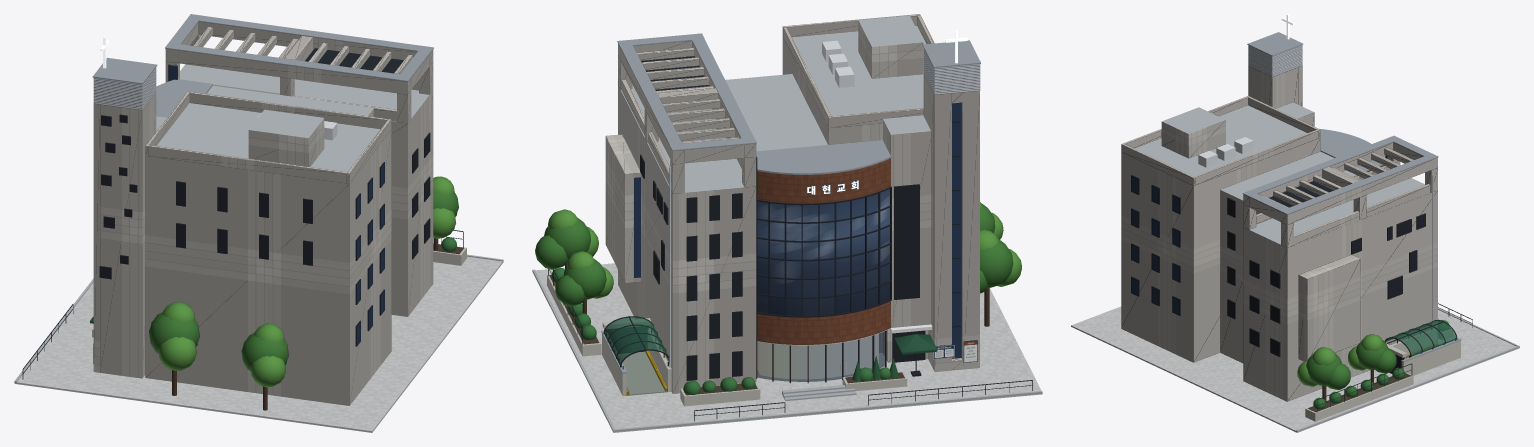
File: place_대현교회.glb
3 views of the same model, side by side, from view 1: azimuth 30°, elevation 25°; view 2: azimuth 150°, elevation 25°; view 3: azimuth 270°, elevation 25° (orthographic). The views are drawn at different scales.
Visible parts, largest first — view 1: SW_MainRearWing_5F, Forecourt_GraniteSidewalkSlab, Tower_MainShaft_Rear, NE_5F_GraniteBody, Merged_NE_PergolaFrame, Merged_Rear_Parapet, Merged_NE_PergolaCoping, Merged_Env_TreeLeavesBright, SW_Roof_StairPenthouse, Merged_Env_TreeLeaves, Merged_Tower_FrontPiers, Merged_SW_WinFrames (+12 smaller); view 2: NE_5F_GraniteBody, Forecourt_GraniteSidewalkSlab, Sanctuary_CurvedCurtainWall, Merged_Tower_FrontPiers, SW_MainRearWing_5F, TransitionBay_UpperStone, Central_SanctuaryRearBlock, Merged_Env_TreeLeaves, Merged_NE_PergolaFrame, Merged_NE_PergolaBeams, Sanctuary_1F_GlassArc, Merged_NE_FrontFrames (+33 smaller); view 3: NE_5F_GraniteBody, SW_MainRearWing_5F, Forecourt_GraniteSidewalkSlab, NE_Cantilevered_BlankStoneBox, Central_SanctuaryRearBlock, Merged_NE_PergolaFrame, Merged_Rear_Parapet, Merged_NE_PergolaCoping, SW_Roof_StairPenthouse, Merged_Env_TreeLeaves, Merged_NE_PergolaBeams, Tower_MainShaft_Rear (+18 smaller).
Part boxes in pixels (x1=…): SW_MainRearWing_5F: x1=145, y1=103, x2=391, y2=405; Forecourt_GraniteSidewalkSlab: x1=14, y1=256, x2=503, y2=432; Tower_MainShaft_Rear: x1=100, y1=93, x2=156, y2=378; NE_5F_GraniteBody: x1=180, y1=64, x2=433, y2=316; Merged_NE_PergolaFrame: x1=165, y1=21, x2=433, y2=123; Merged_Rear_Parapet: x1=145, y1=91, x2=391, y2=183; Merged_NE_PergolaCoping: x1=165, y1=14, x2=433, y2=81; Merged_Env_TreeLeavesBright: x1=158, y1=176, x2=455, y2=387; SW_Roof_StairPenthouse: x1=248, y1=109, x2=324, y2=166; Merged_Env_TreeLeaves: x1=149, y1=192, x2=458, y2=371; Merged_Tower_FrontPiers: x1=93, y1=104, x2=100, y2=372; Merged_SW_WinFrames: x1=176, y1=181, x2=312, y2=265; NE_5F_GraniteBody: x1=618, y1=84, x2=756, y2=393; Forecourt_GraniteSidewalkSlab: x1=533, y1=263, x2=1042, y2=432; Sanctuary_CurvedCurtainWall: x1=757, y1=189, x2=889, y2=315; Merged_Tower_FrontPiers: x1=933, y1=91, x2=979, y2=371; SW_MainRearWing_5F: x1=782, y1=26, x2=926, y2=352; TransitionBay_UpperStone: x1=883, y1=115, x2=931, y2=327; Central_SanctuaryRearBlock: x1=725, y1=74, x2=827, y2=151; Merged_Env_TreeLeaves: x1=535, y1=203, x2=1013, y2=306; Merged_NE_PergolaFrame: x1=618, y1=40, x2=756, y2=193; Merged_NE_PergolaBeams: x1=637, y1=47, x2=739, y2=143; Sanctuary_1F_GlassArc: x1=757, y1=331, x2=885, y2=381; Merged_NE_FrontFrames: x1=686, y1=193, x2=742, y2=380; NE_5F_GraniteBody: x1=1243, y1=178, x2=1437, y2=401; SW_MainRearWing_5F: x1=1121, y1=105, x2=1320, y2=362; Forecourt_GraniteSidewalkSlab: x1=1071, y1=306, x2=1519, y2=432; NE_Cantilevered_BlankStoneBox: x1=1298, y1=255, x2=1360, y2=361; Central_SanctuaryRearBlock: x1=1220, y1=151, x2=1357, y2=363; Merged_NE_PergolaFrame: x1=1243, y1=142, x2=1437, y2=247; Merged_Rear_Parapet: x1=1121, y1=96, x2=1320, y2=185; Merged_NE_PergolaCoping: x1=1242, y1=135, x2=1438, y2=214; SW_Roof_StairPenthouse: x1=1161, y1=107, x2=1225, y2=158; Merged_Env_TreeLeaves: x1=1306, y1=340, x2=1396, y2=389; Merged_NE_PergolaBeams: x1=1262, y1=147, x2=1413, y2=207; Tower_MainShaft_Rear: x1=1248, y1=66, x2=1298, y2=108.
Size of the model in its own units: 46.78 by 29.83 by 46.47.
38 materials, 16 textured.
